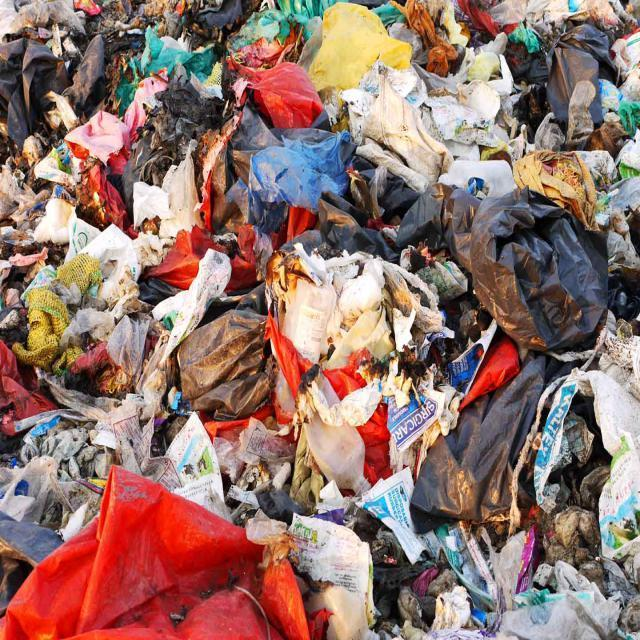Trashbag: (468, 190, 624, 328), (417, 396, 521, 517), (536, 36, 602, 122), (316, 200, 378, 258)
